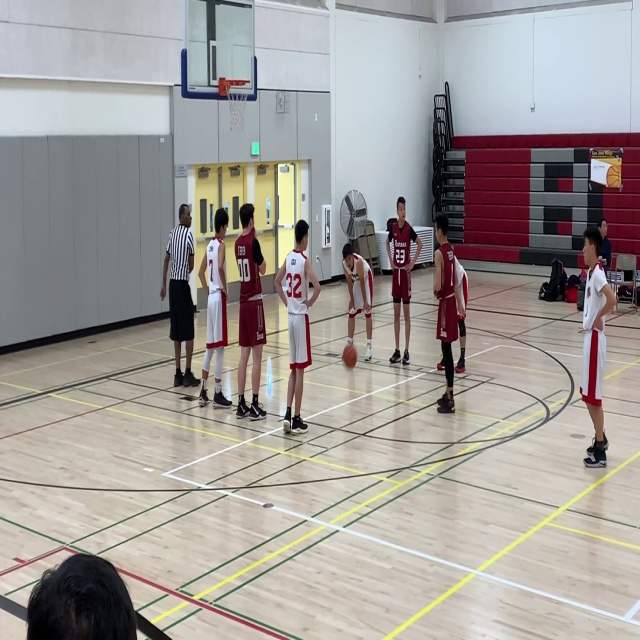Basketball: (342, 344, 357, 367)
